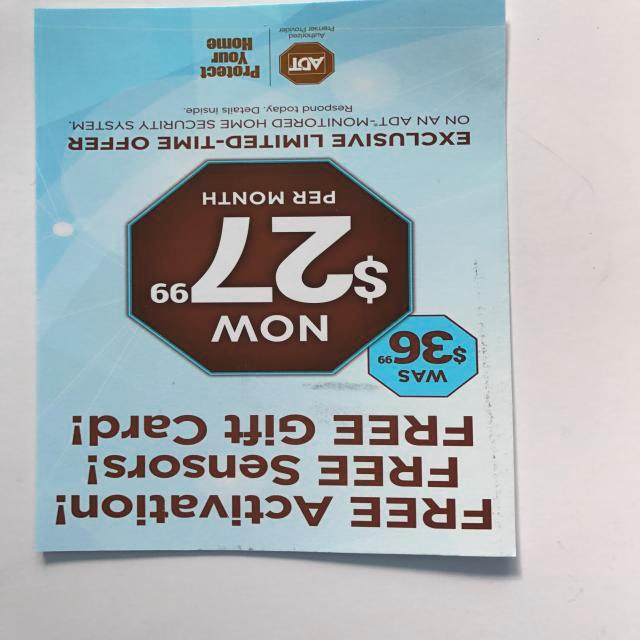paper: (0, 0, 542, 571)
